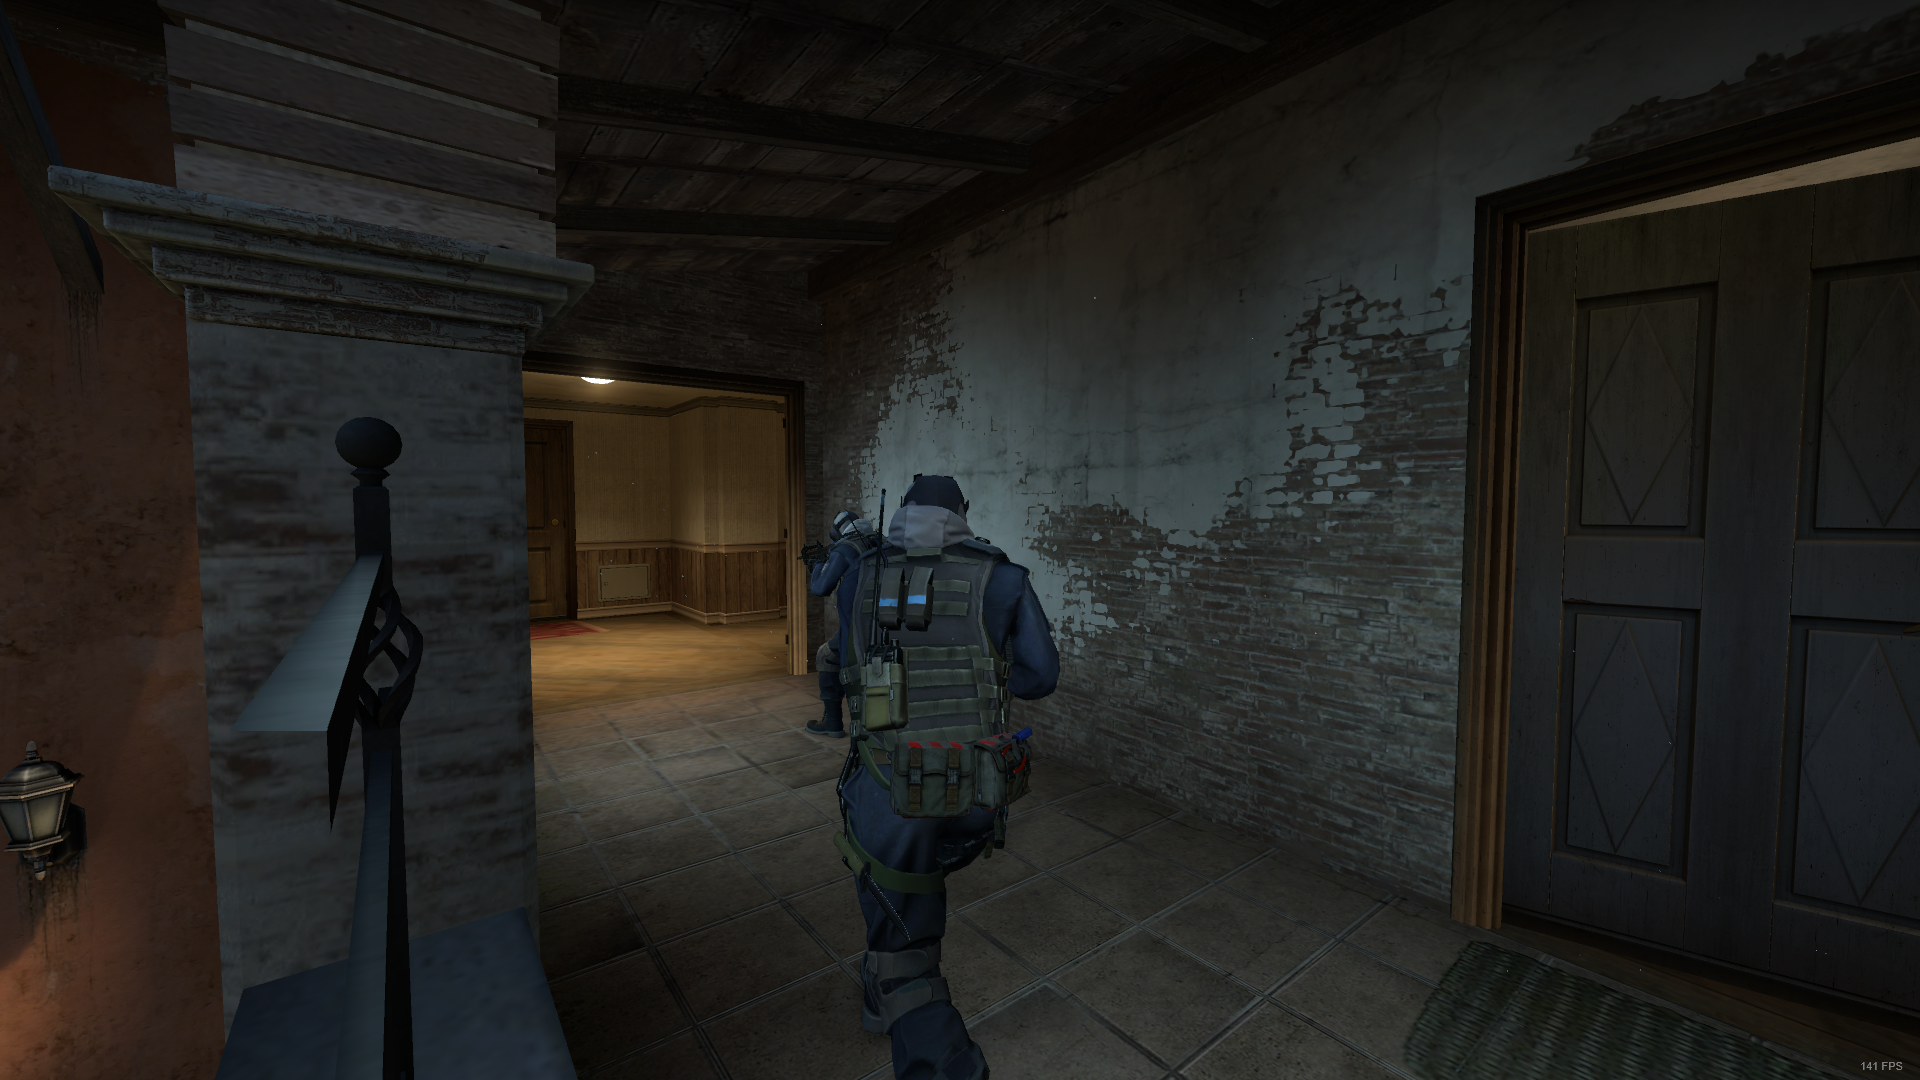ct: (843, 469, 1064, 1080)
